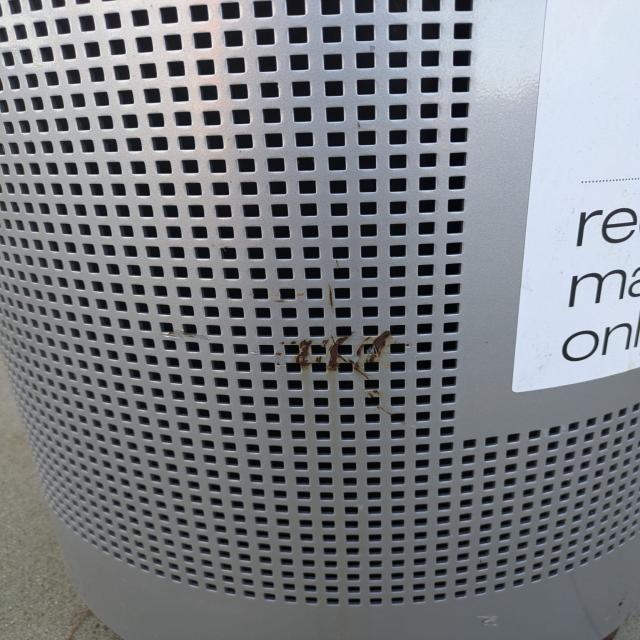Uniform Corrosion: (324, 331, 392, 380), (295, 342, 310, 370)
